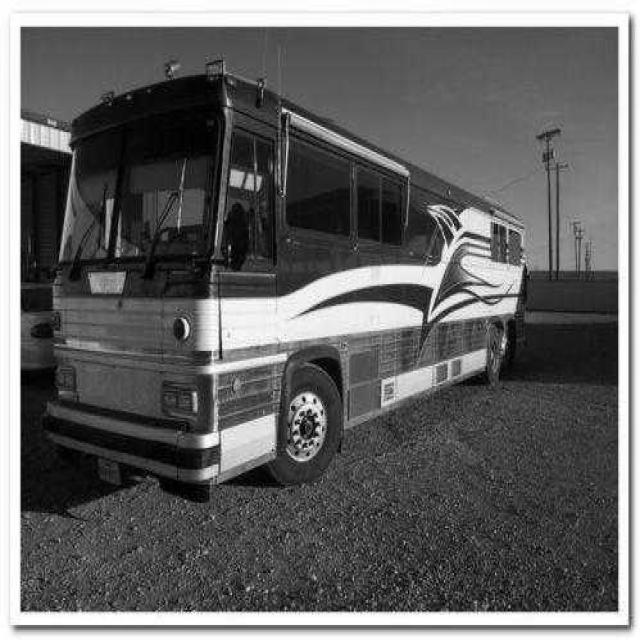Bus: (45, 75, 525, 483)
